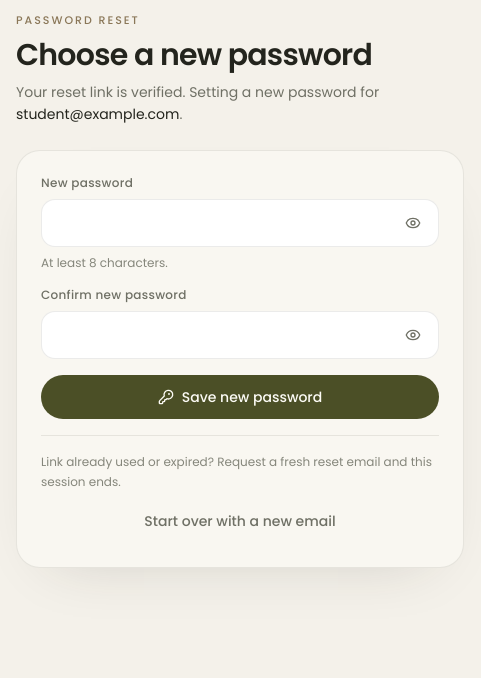
ResetPasswordPage › surfaces a Supabase failure instead of claiming success
Type "new-password-1" into the password field labelled "New password" at [240, 223], box top-left (41, 199), bottom-right (439, 247)
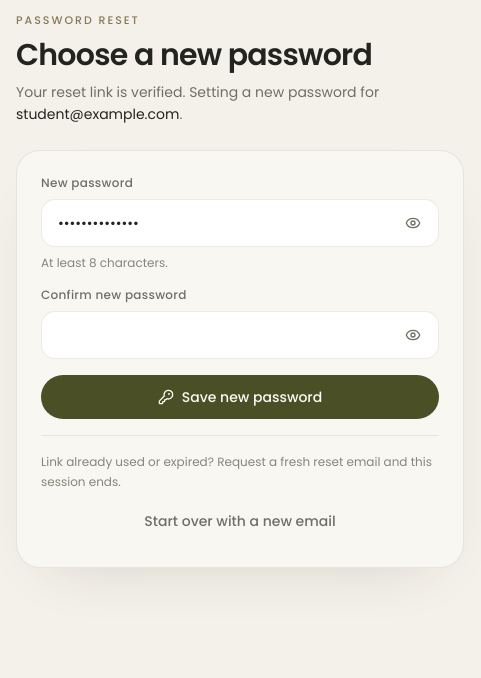
Type "new-password-1" into the password field labelled "Confirm new password" at [240, 335], box top-left (41, 311), bottom-right (439, 359)
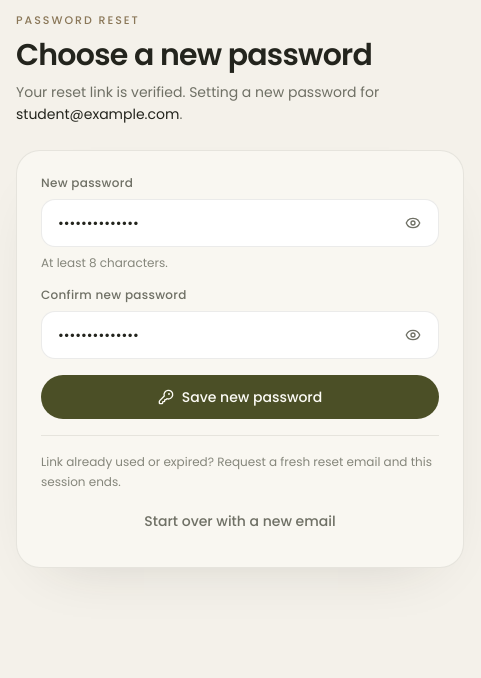
Click the button "Save new password" at [240, 397], box top-left (41, 375), bottom-right (439, 419)
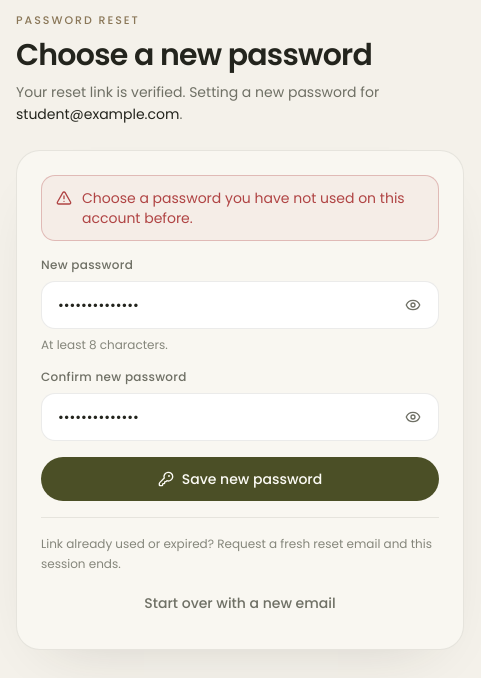
Now the text "Choose a password you have not used on this account before." is shown, box top-left (82, 188), bottom-right (424, 228)
